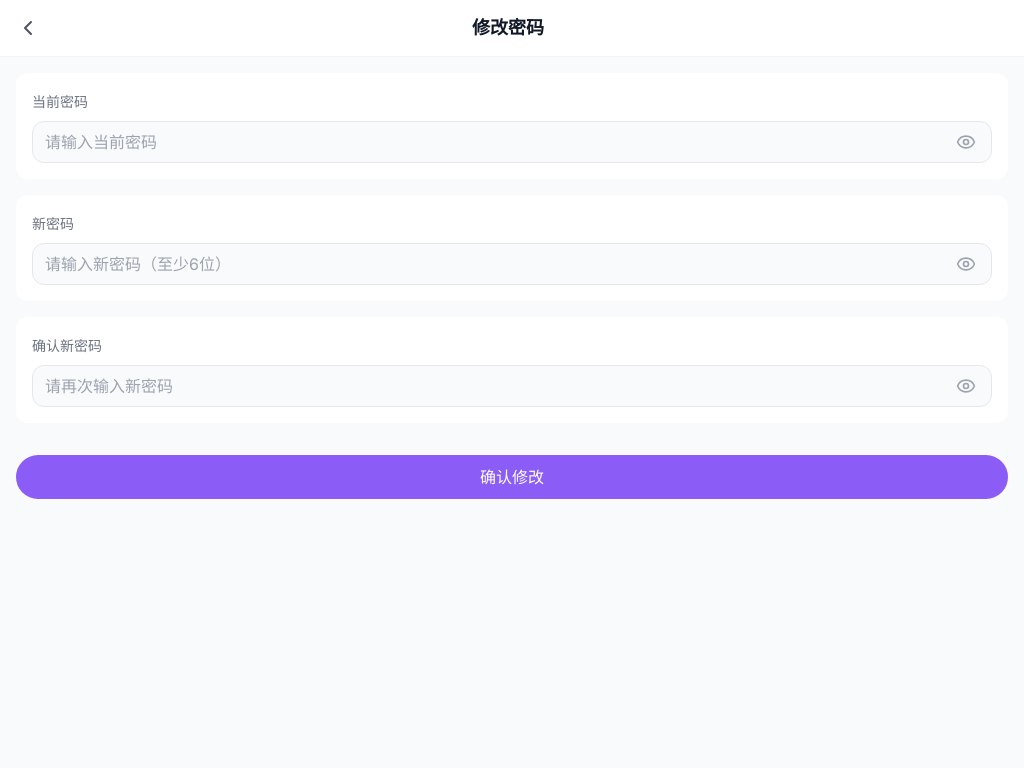
Test: ChangePasswordPage › validates passwords must match
Type "123456" into the password field with placeholder "请输入当前密码".
click(512, 142); type("123456")  # box [32,121,992,163]
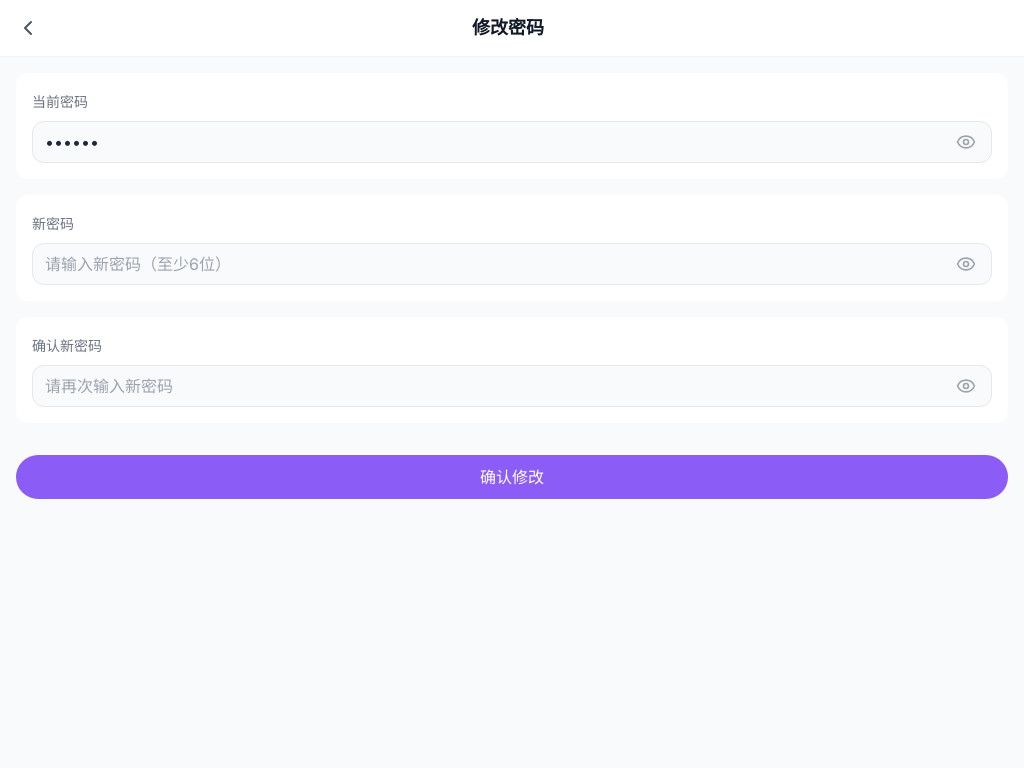
Type "654321" into the password field with placeholder "请输入新密码（至少6位）".
click(512, 264); type("654321")  # box [32,243,992,285]
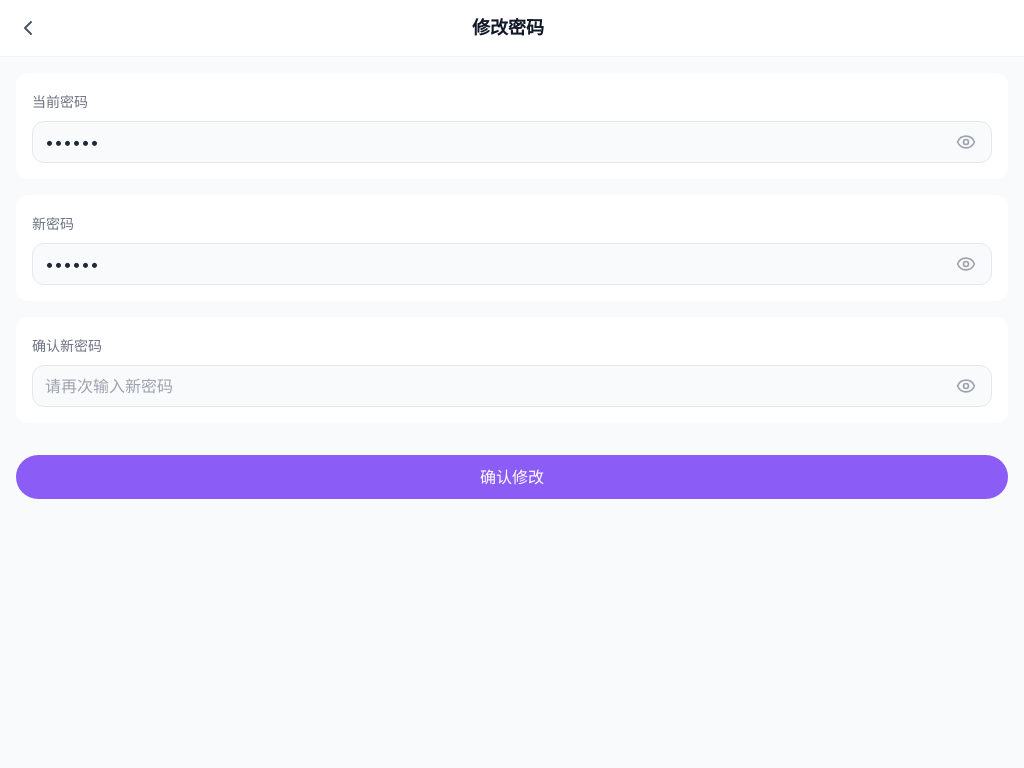
Type "999999" into the password field with placeholder "请再次输入新密码".
click(512, 386); type("999999")  # box [32,365,992,407]
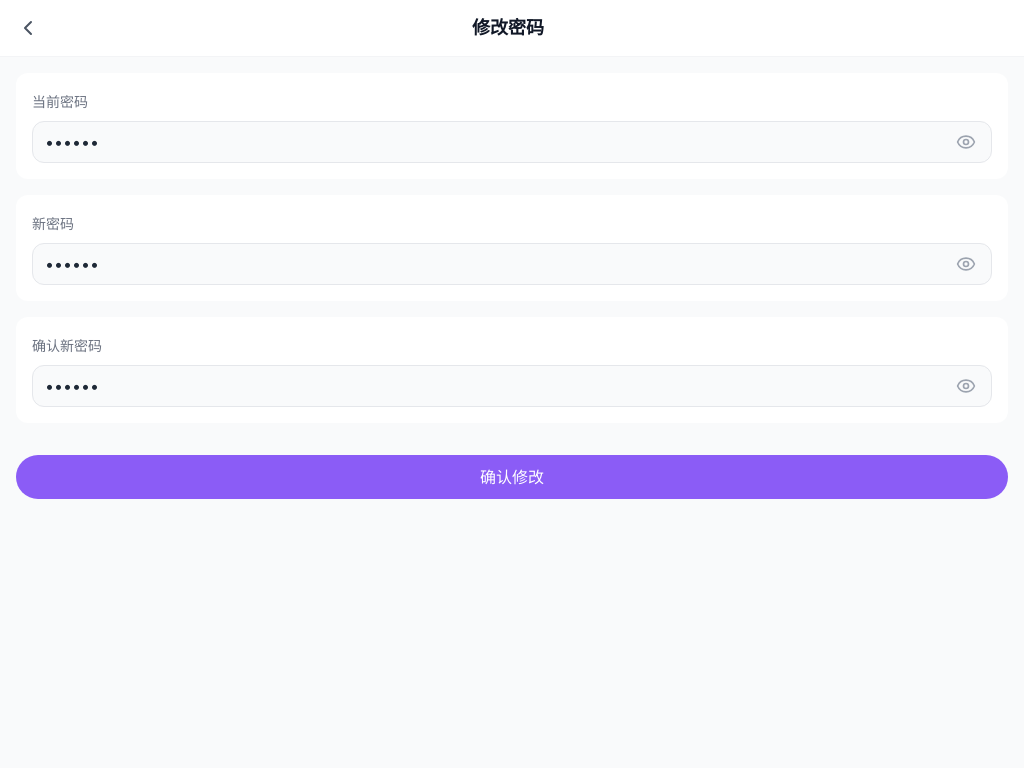
Click the button "确认修改".
click(512, 477)  # box [16,455,1008,499]
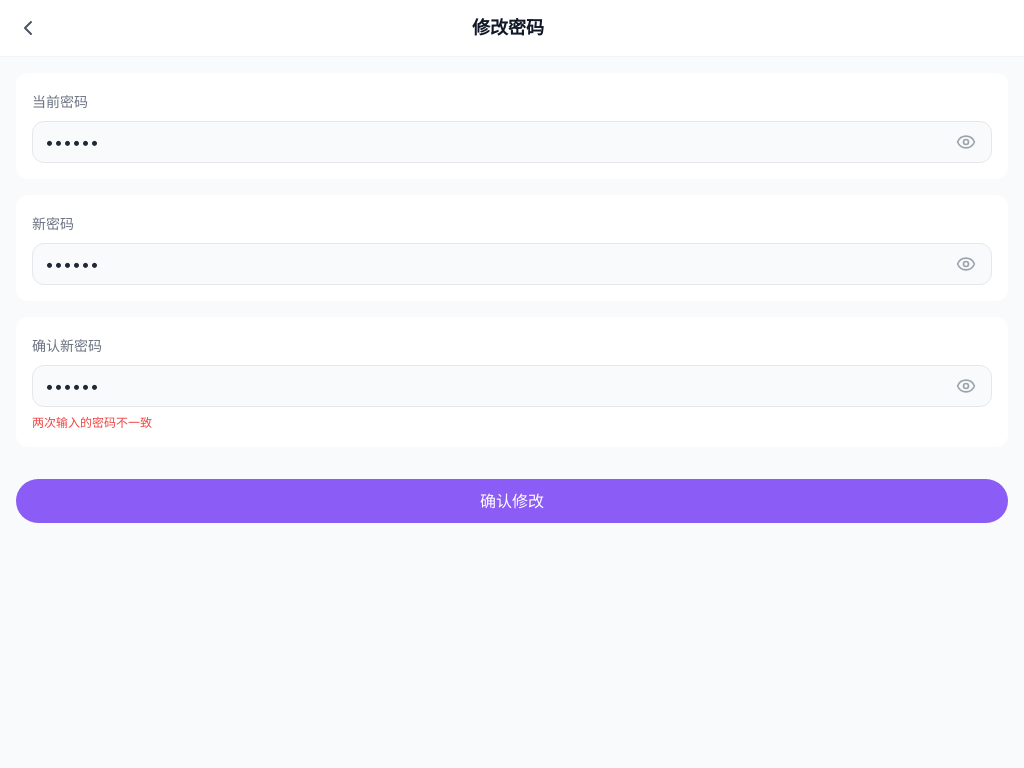
Check: the text "两次输入的密码不一致" is shown, box [32,415,152,430]
